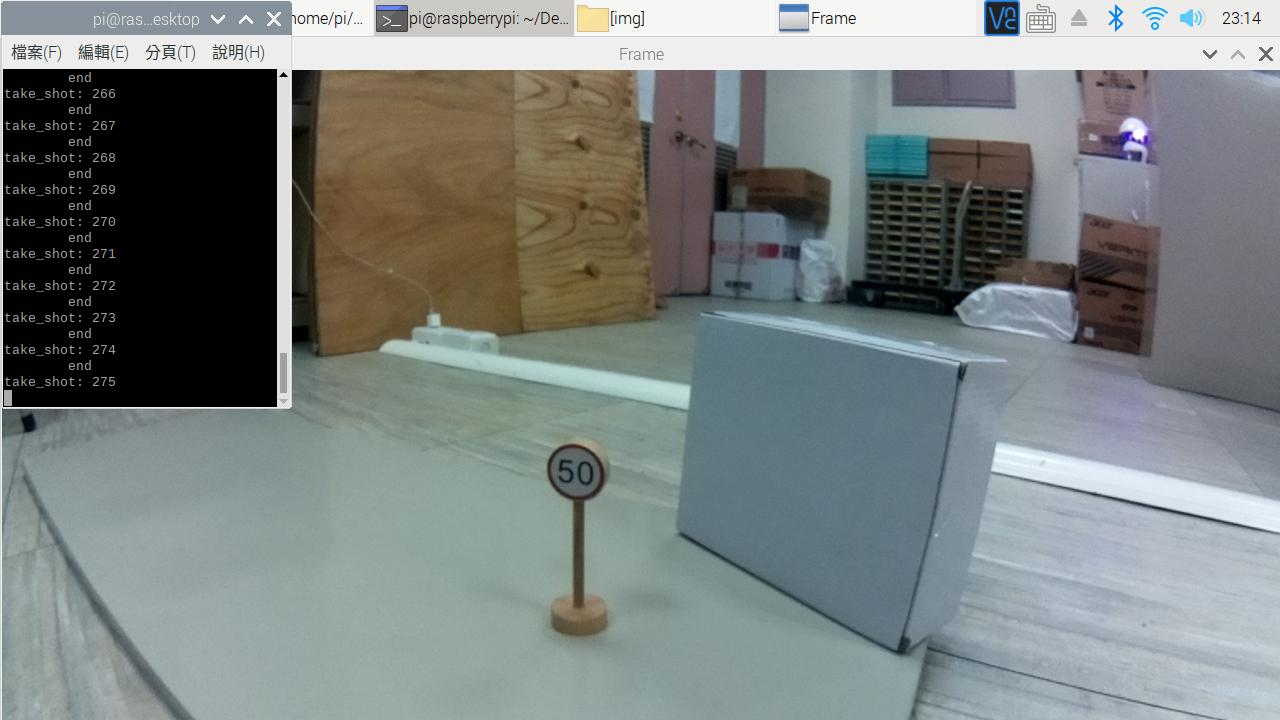Speed50: (529, 430, 629, 516)
